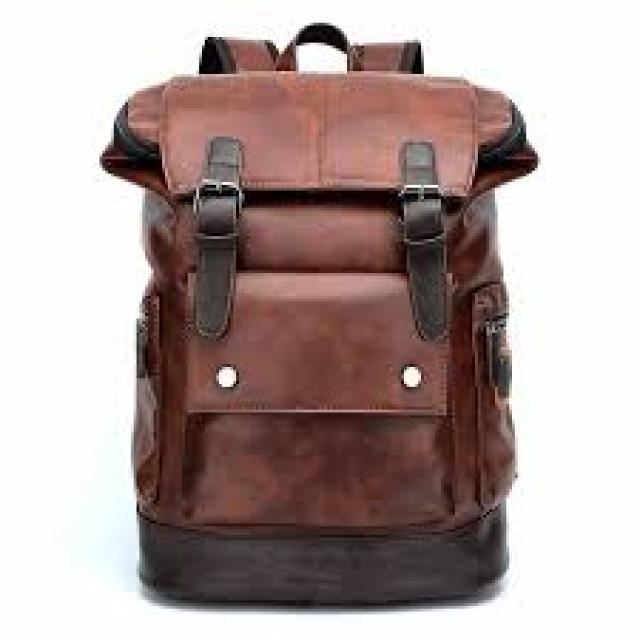backpack: (98, 21, 539, 607)
